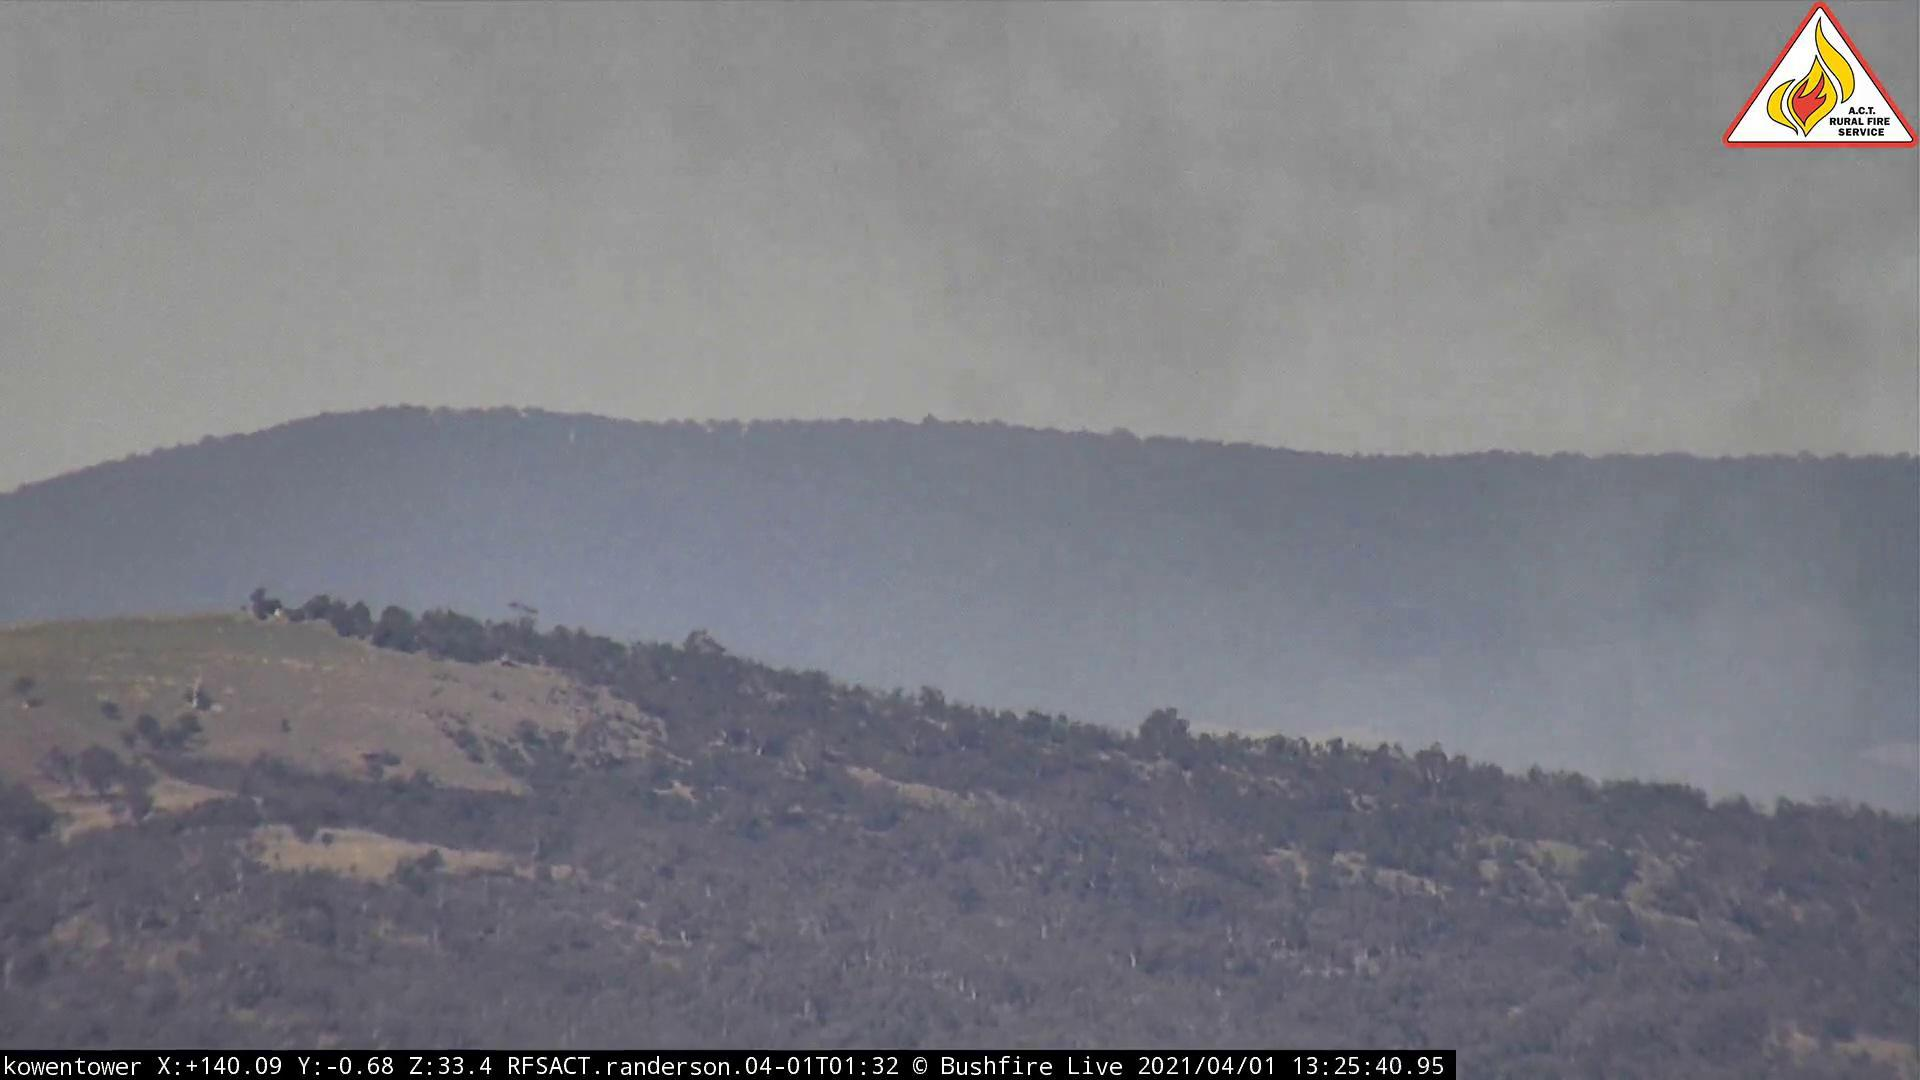Smoke: (764, 3, 1920, 819)
